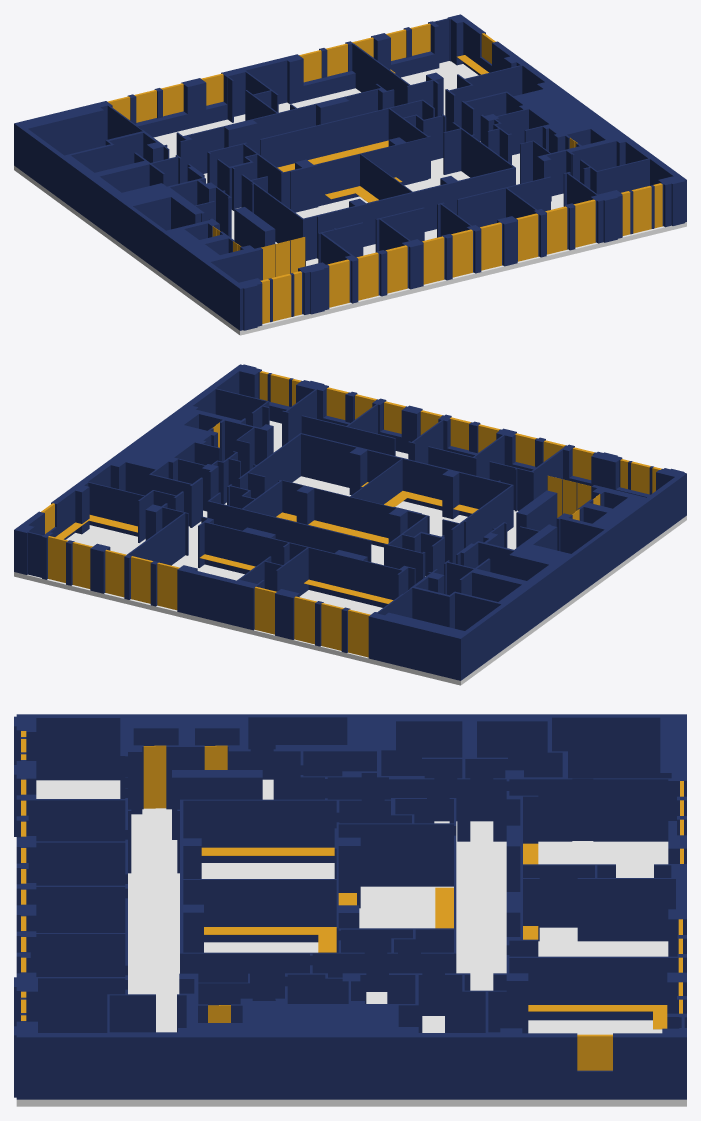
The model's file is 16W 9th Floor.fbx.
3 views of the same model, one above another, from view 1: azimuth 30°, elevation 25°; view 2: azimuth 150°, elevation 25°; view 3: azimuth 270°, elevation 25° (orthographic). The views are drawn at different scales.
Parts seen in each view (by area): view 1: Walls, Interior Member, Object_40; view 2: Walls, Interior Member, Object_40; view 3: Walls, Object_40, Interior Member.
Part boxes in pixels (x1=…): Walls: x1=14, y1=14, x2=686, y2=330; Interior Member: x1=107, y1=23, x2=662, y2=323; Object_40: x1=14, y1=61, x2=686, y2=335; Walls: x1=14, y1=364, x2=686, y2=680; Interior Member: x1=41, y1=371, x2=661, y2=657; Object_40: x1=14, y1=420, x2=686, y2=685; Walls: x1=14, y1=714, x2=686, y2=1099; Object_40: x1=16, y1=779, x2=686, y2=1106; Interior Member: x1=21, y1=731, x2=683, y2=1070.
Bounding box in the file's own units: 1201 × 1057 × 120.
